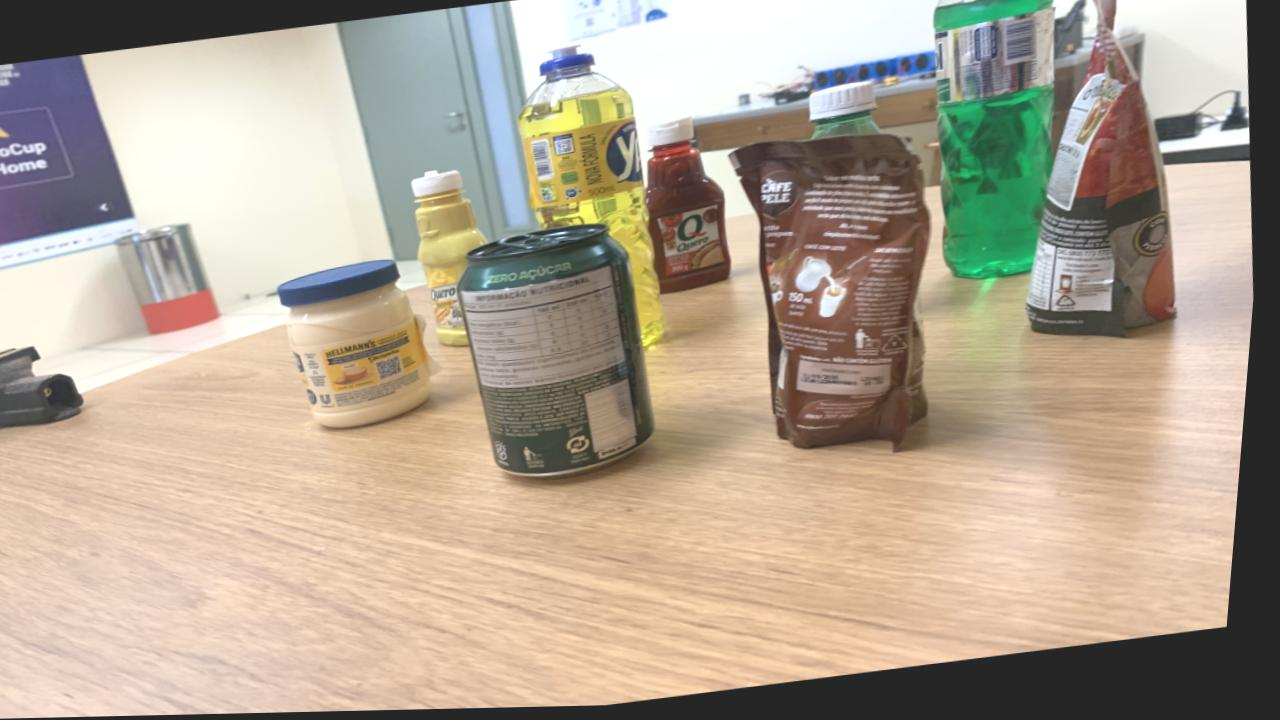Coffee-Pantry_Items: (732, 137, 935, 451)
Detergent-Cleanup_Items: (520, 49, 672, 347), (935, 0, 1056, 283), (811, 85, 882, 141)
Guarana-Drinks: (811, 85, 882, 141)
Guarana_Can-Drinks: (463, 226, 663, 479)
Ketchup-Pantry_Items: (649, 117, 735, 296), (650, 117, 735, 296)
Mayonnaise-Pantry_Items: (282, 262, 438, 429)
Mustard-Pantry_Items: (414, 172, 492, 347)
Tomato_Sauce-Pantry_Items: (1033, 0, 1182, 341)
